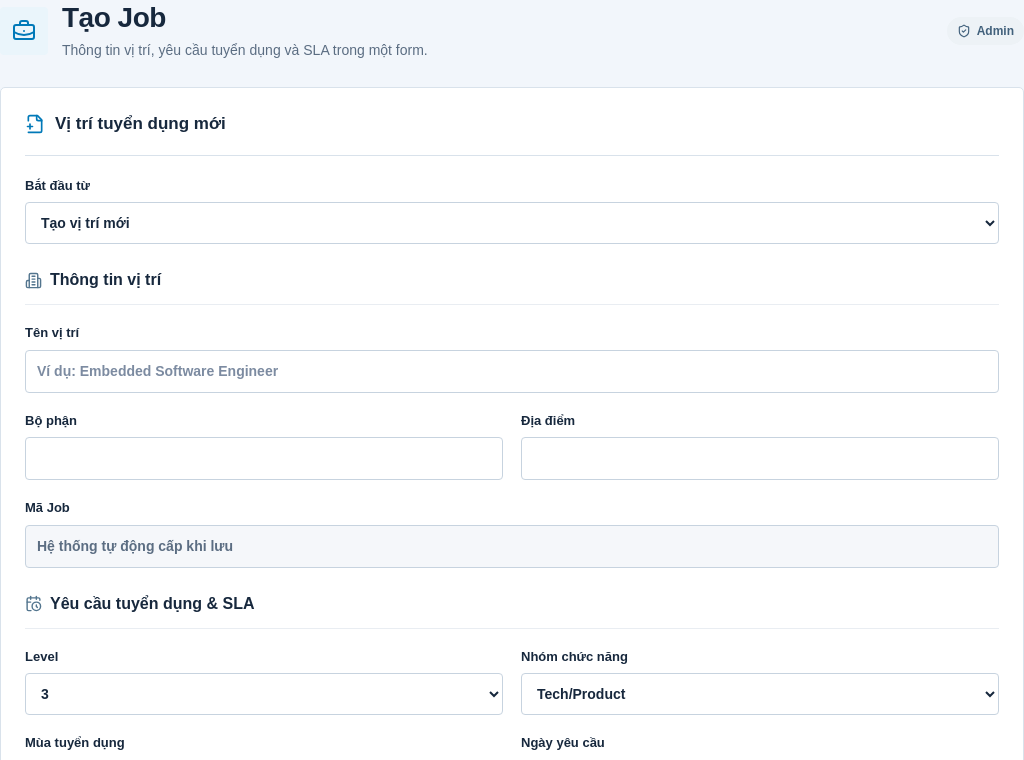
Test: does not offer mutation retry when refresh fails after a successful save
Type "TEST Position" into the field labelled "Tên vị trí" at (512, 371), box [25, 350, 999, 393]
(page scrolled)
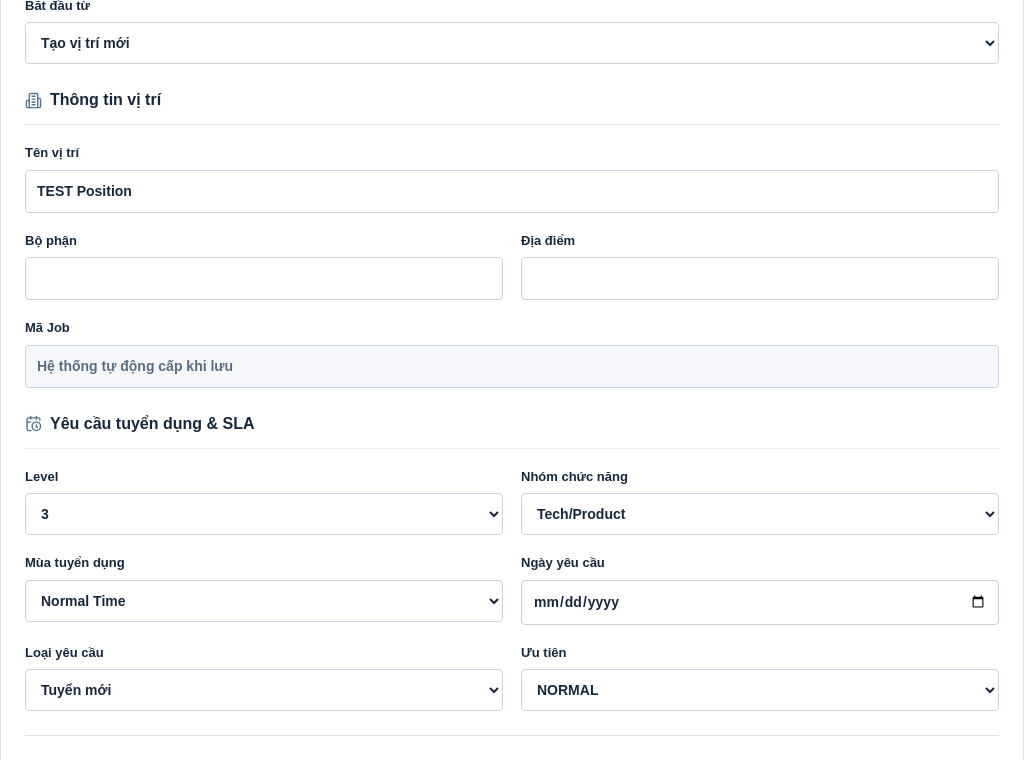
Submit the form named "Lưu nháp"
(page scrolled)
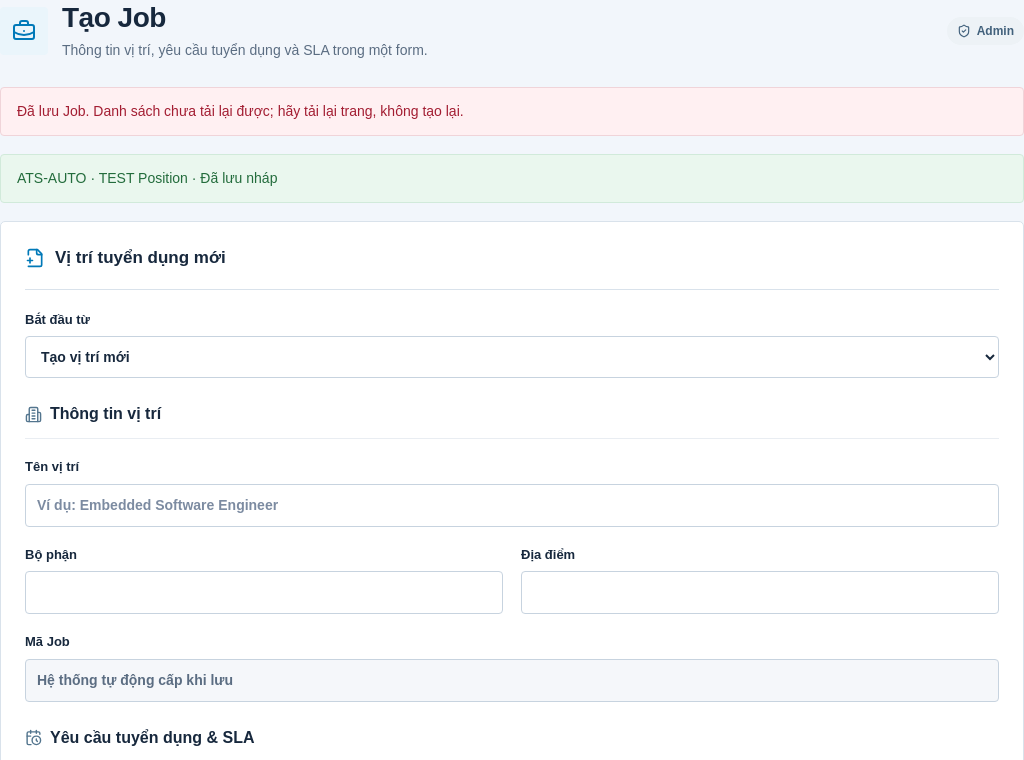
Expected: the text "Đã lưu Job. Danh sách chưa tải lại được; hãy tải lại trang, không tạo lại." is shown, [0, 87, 1023, 136]
